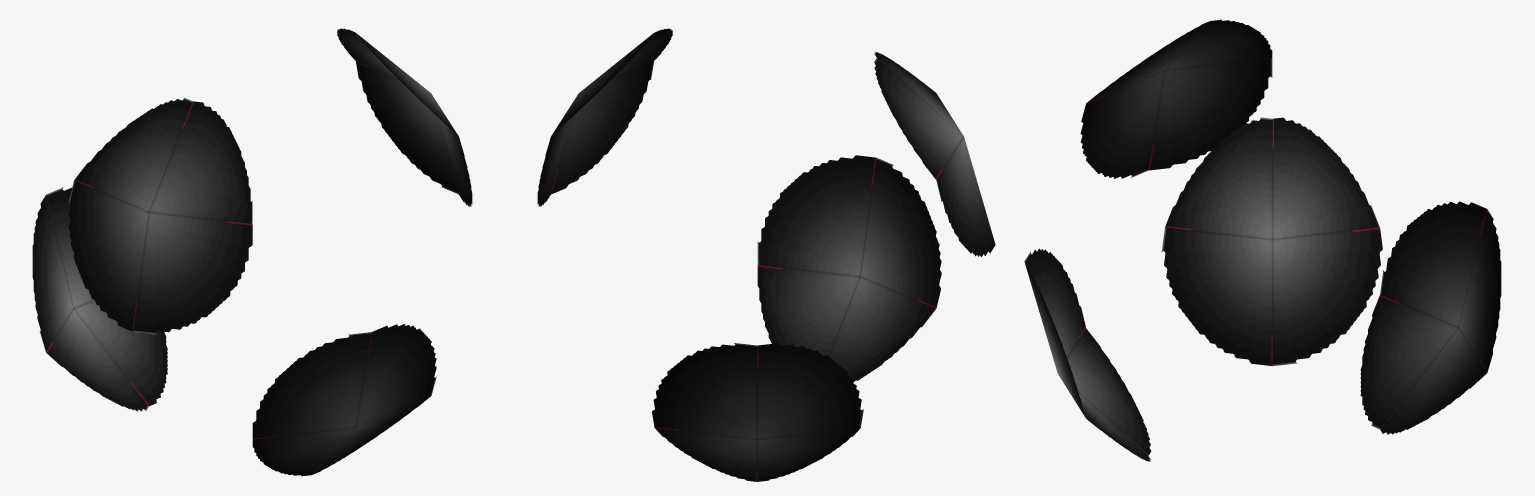
The picture shows the model from 3 angles, left to right: view 1: azimuth 30°, elevation 25°; view 2: azimuth 150°, elevation 25°; view 3: azimuth 270°, elevation 25°; orthographic projection. The views are drawn at different scales.
Visible parts, largest first — view 1: T1L4M008_9; view 2: T1L4M008_9; view 3: T1L4M008_9.
Boxes of the visible parts, box(x1,y1,x2,y2) form: T1L4M008_9: box(32, 28, 472, 476); T1L4M008_9: box(537, 28, 995, 481); T1L4M008_9: box(1024, 19, 1501, 461).
Bounding box in the file's own units: 0.7998 × 0.6924 × 0.7998.
